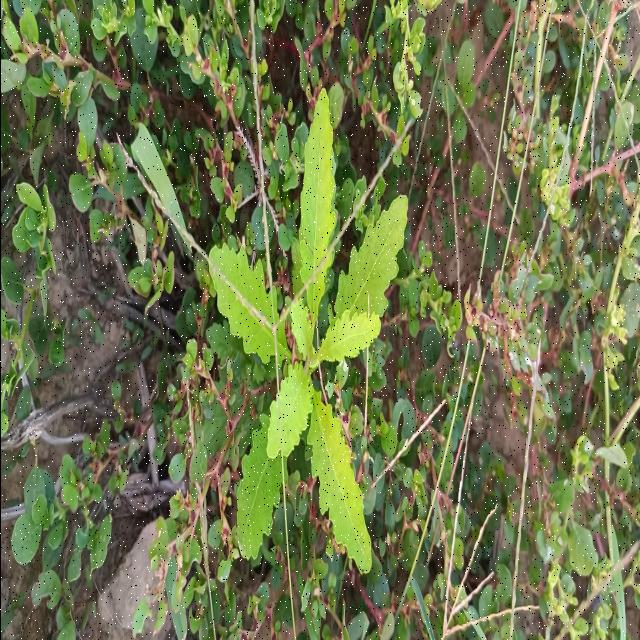plant: (206, 91, 406, 575)
